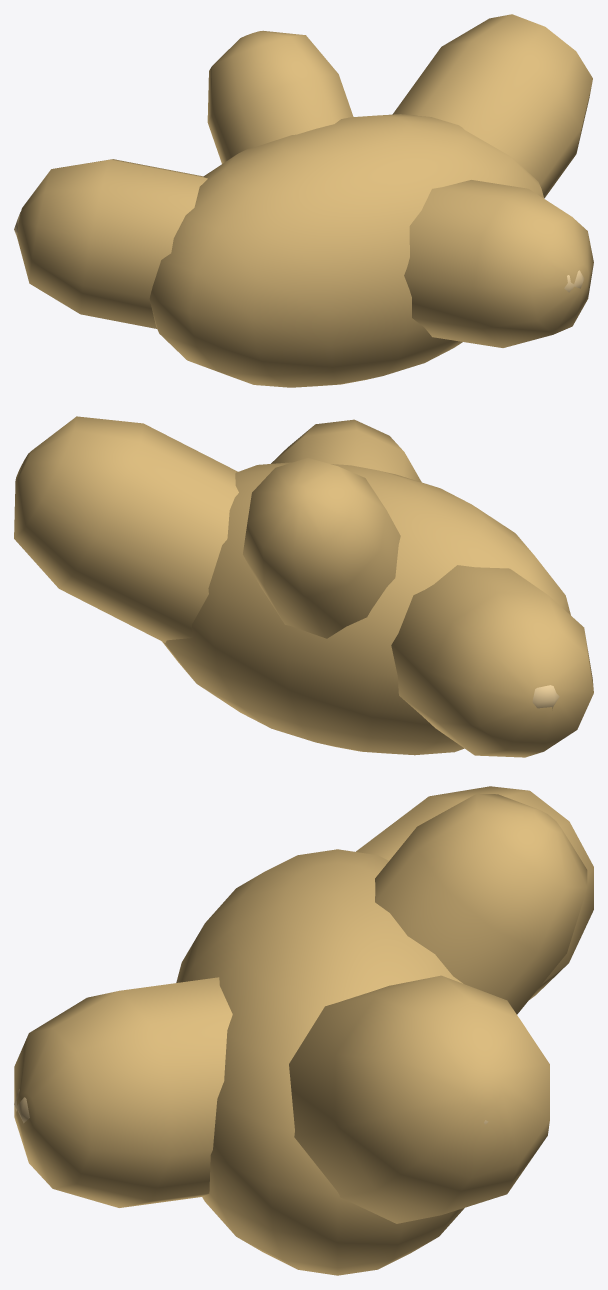
Rendered from ginger.glb.
3 views of the same model, one above another, from view 1: azimuth 30°, elevation 25°; view 2: azimuth 150°, elevation 25°; view 3: azimuth 270°, elevation 25° (orthographic). The views are drawn at different scales.
Parts seen in each view (by area): view 1: ginger; view 2: ginger; view 3: ginger.
Boxes of the visible parts, bbox=[...] form: ginger: bbox=[14, 14, 593, 387]; ginger: bbox=[14, 416, 593, 757]; ginger: bbox=[14, 786, 593, 1275].
Bounding box in the file's own units: 0.636 × 0.3351 × 0.4247.
